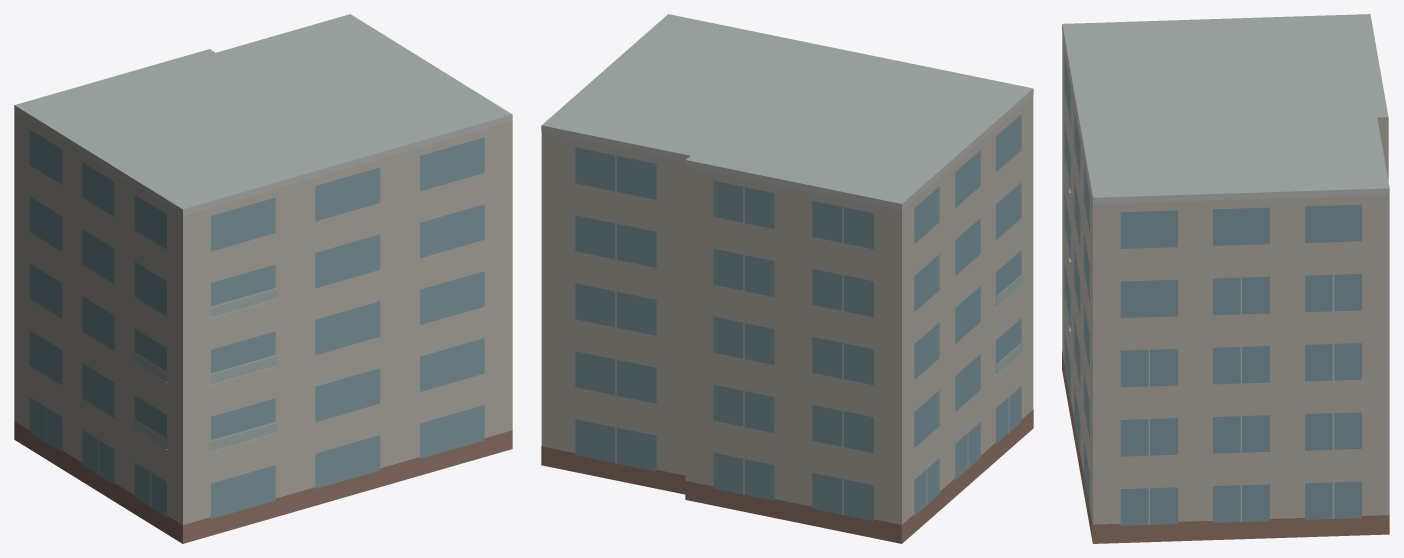
The model's file is survey-upis-32610581.glb.
3 renders of one model, left to right at view 1: azimuth 30°, elevation 25°; view 2: azimuth 150°, elevation 25°; view 3: azimuth 270°, elevation 25°, orthographic. The views are drawn at different scales.
Parts seen in each view (by area): view 1: survey-upis-32610581.tmp; view 2: survey-upis-32610581.tmp; view 3: survey-upis-32610581.tmp.
Part boxes in pixels (x1,y1,x2,y2): survey-upis-32610581.tmp: (14, 14, 512, 543); survey-upis-32610581.tmp: (541, 14, 1033, 543); survey-upis-32610581.tmp: (1062, 14, 1389, 543).
Bounding box in the file's own units: 14.82 × 13 × 11.16.
